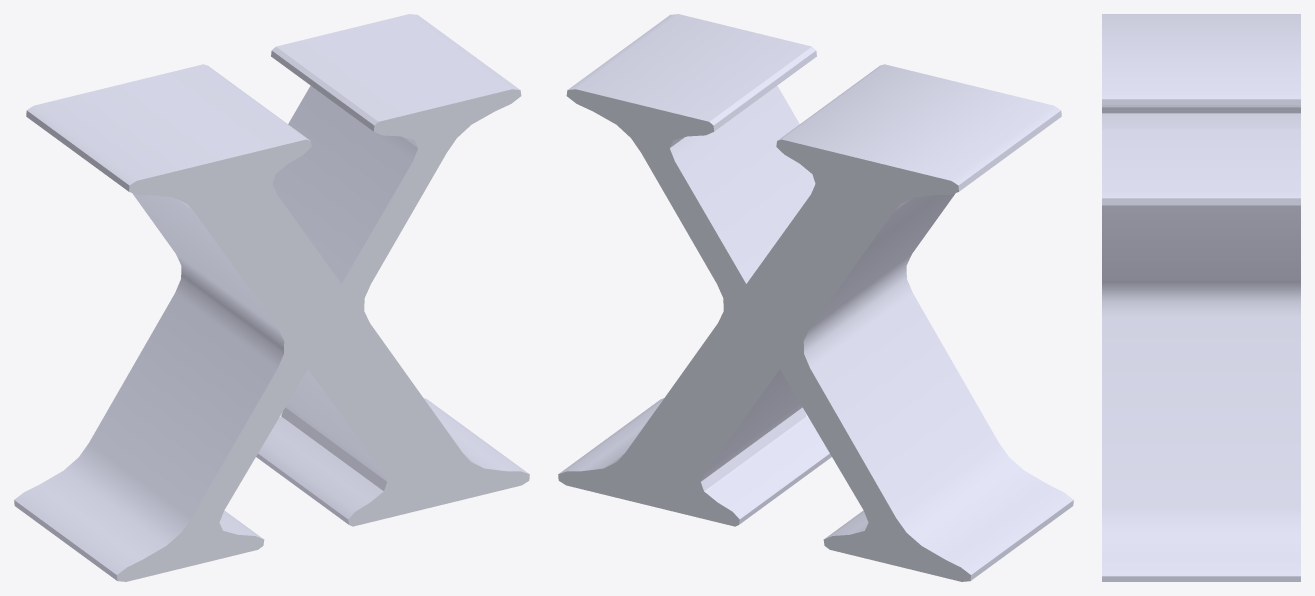
Rendered from X_Soul_Grey.glb.
3 views of the same model, side by side, from view 1: azimuth 30°, elevation 25°; view 2: azimuth 150°, elevation 25°; view 3: azimuth 270°, elevation 25° (orthographic). The views are drawn at different scales.
Visible parts, largest first — view 1: x_Soul_Grey; view 2: x_Soul_Grey; view 3: x_Soul_Grey.
Part boxes in pixels (left/top/right/bottom): x_Soul_Grey: left=14, top=14, right=529, bottom=581; x_Soul_Grey: left=558, top=14, right=1073, bottom=581; x_Soul_Grey: left=1102, top=14, right=1300, bottom=581.
Size of what is drawn, in the model's own units: 0.1044 by 0.0963 by 0.045.
Materials: 2 (2 with a texture image).
